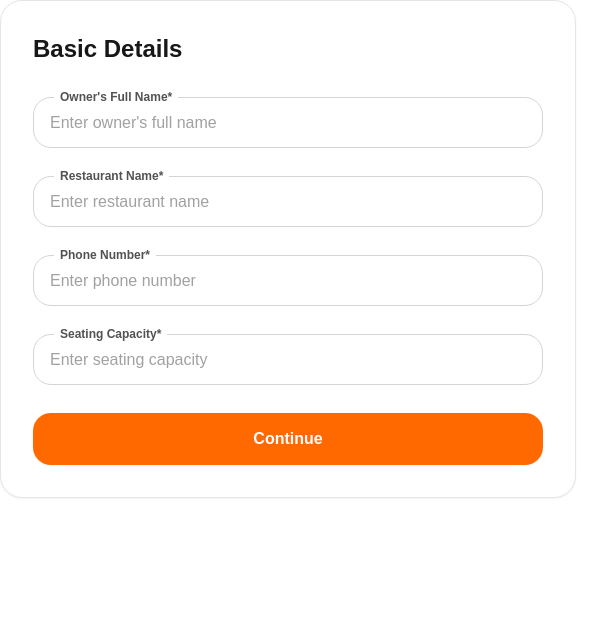
Test: BusinessInformationPage › shows validation error messages when submitted with invalid inputs
Click the button "Continue".
click(288, 439)  # box left=33, top=413, right=543, bottom=465
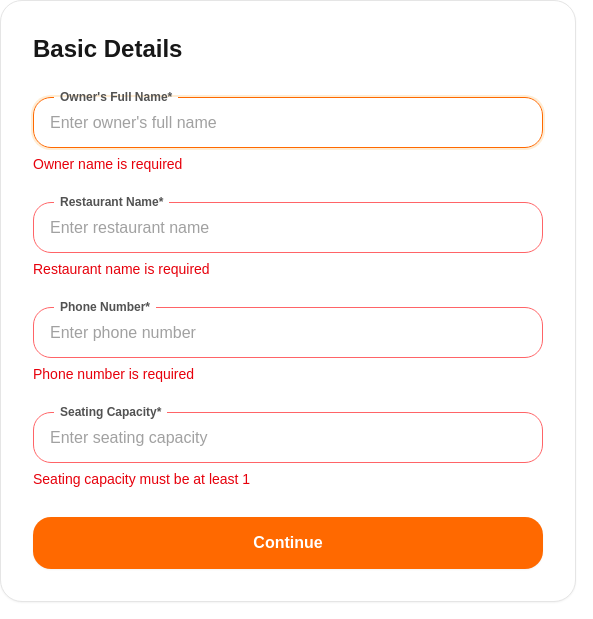
Now the text "Owner name is required" is shown, box left=33, top=156, right=182, bottom=172
Now the text "Restaurant name is required" is shown, box left=33, top=261, right=210, bottom=277
Now the text "Phone number is required" is shown, box left=33, top=366, right=194, bottom=382
